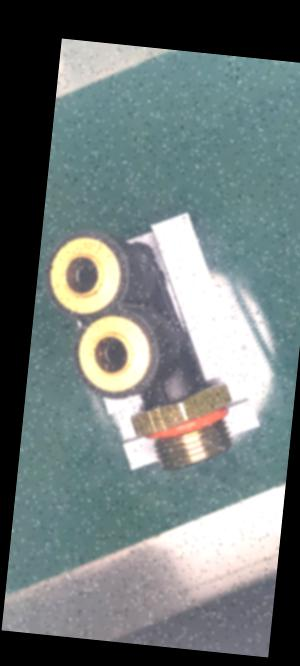craze: (157, 380, 170, 403)
